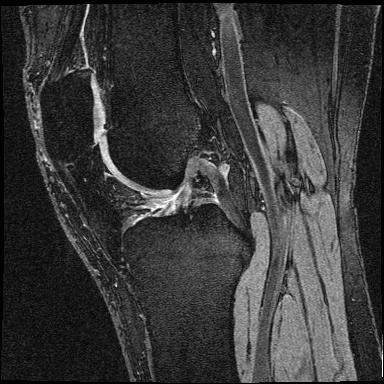SagKneeJointArea: (39, 68, 255, 278)
